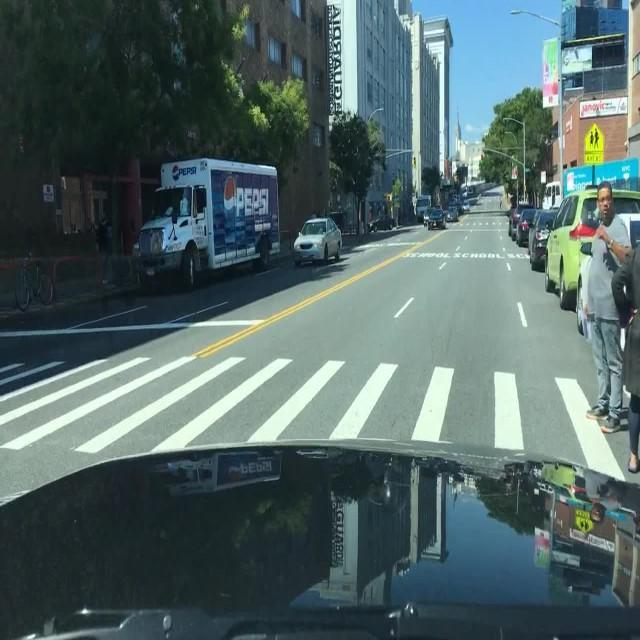normal: (502, 187, 640, 439), (119, 134, 302, 309), (286, 206, 349, 280)
